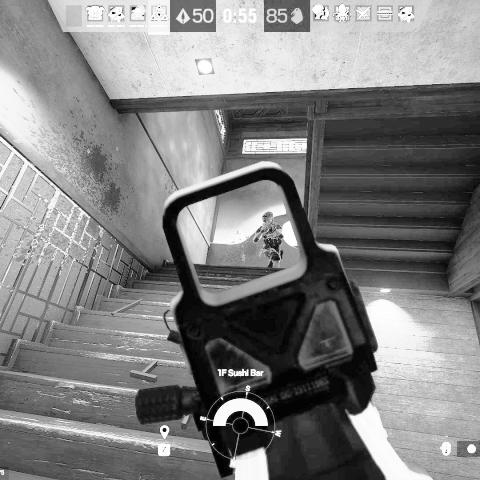Character: (252, 210, 286, 269)
Head: (262, 211, 274, 225)
